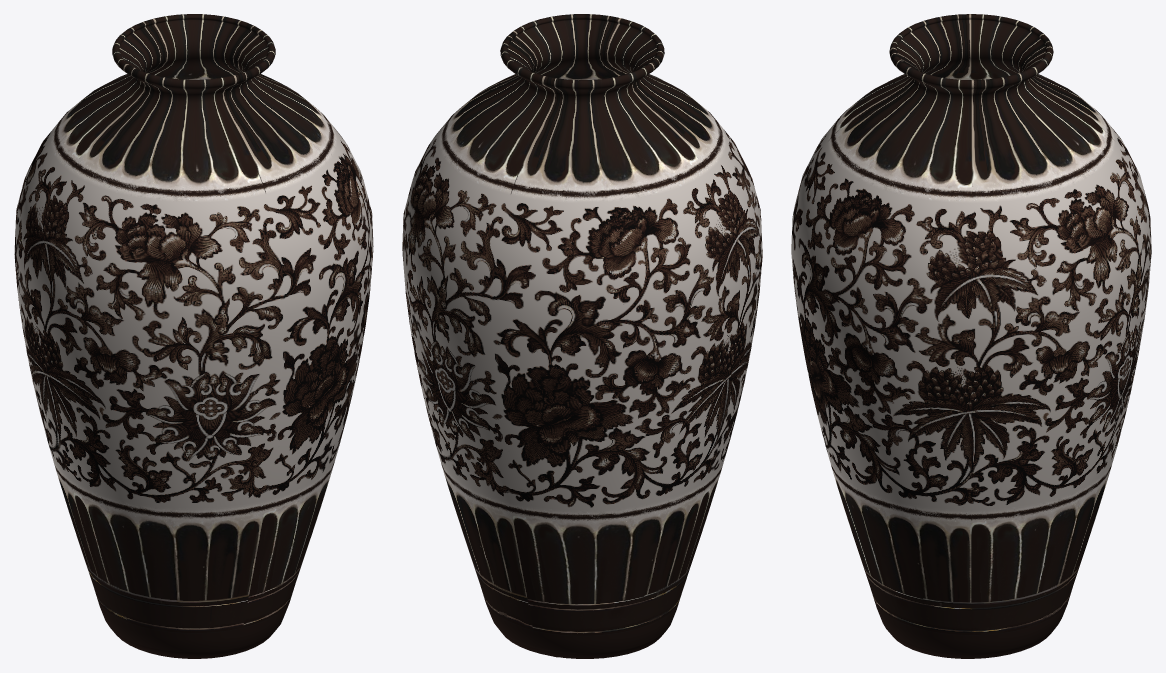
Rendered from Vase.fbx.
3 renders of one model, left to right at view 1: azimuth 30°, elevation 25°; view 2: azimuth 150°, elevation 25°; view 3: azimuth 270°, elevation 25°, orthographic.
Visible parts, largest first — view 1: Cylinder006; view 2: Cylinder006; view 3: Cylinder006.
Part boxes in pixels (bbox=[...]): Cylinder006: bbox=[14, 14, 373, 658]; Cylinder006: bbox=[402, 14, 762, 658]; Cylinder006: bbox=[791, 14, 1151, 658].
Size of the model in its own units: 56.79 by 101 by 56.79.
1 material, 1 textured.
